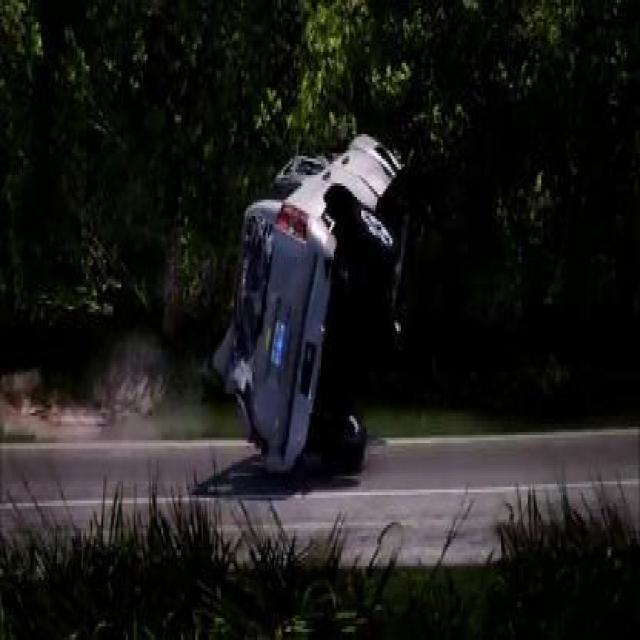accident: (214, 123, 406, 476)
